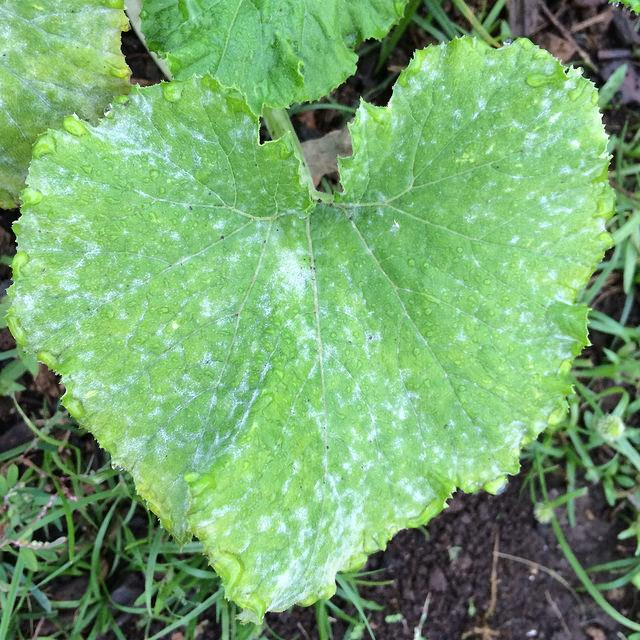Squash Powdery mildew leaf: (10, 31, 615, 620)
